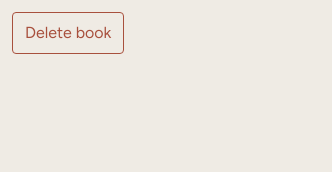
Test case: DeleteBookButton › shows an error and does not redirect when the delete request fails
The width and height of the screenshot is (332, 172).
Step 1. Click the button "Delete book" → [68, 33], box [12, 12, 124, 54]
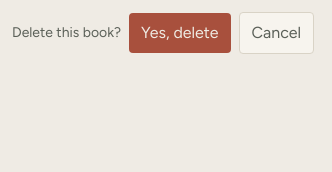
Step 2. Click the button "Yes, delete" → [180, 33], box [129, 13, 231, 53]
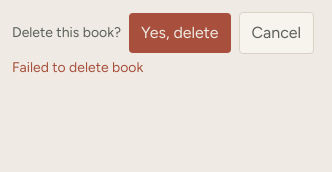
expect the text "Failed to delete book" is shown: met, box [12, 59, 143, 76]
